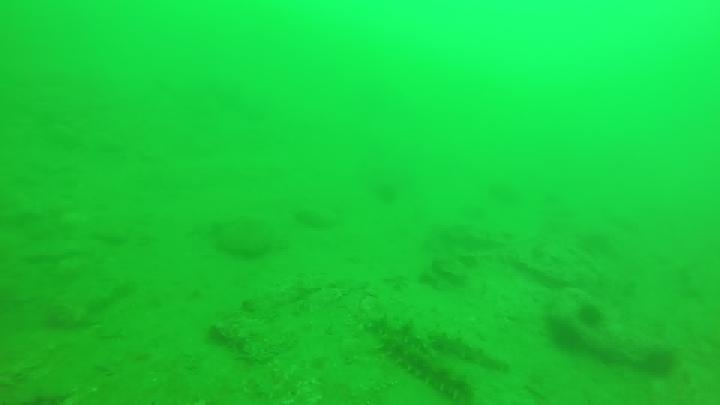echinus: (639, 345, 678, 379), (546, 317, 582, 352), (575, 301, 606, 330), (371, 178, 402, 207)
holothurian: (376, 334, 476, 401), (426, 326, 511, 374), (363, 309, 441, 356)
